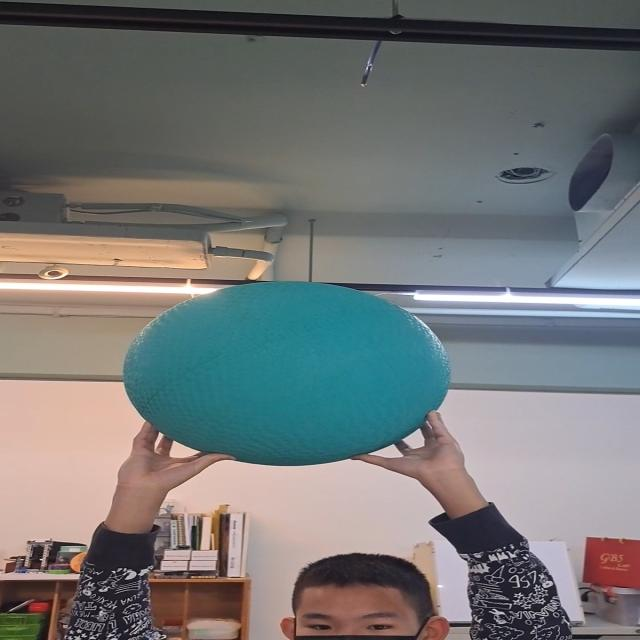ALGAE: (122, 280, 453, 466)
